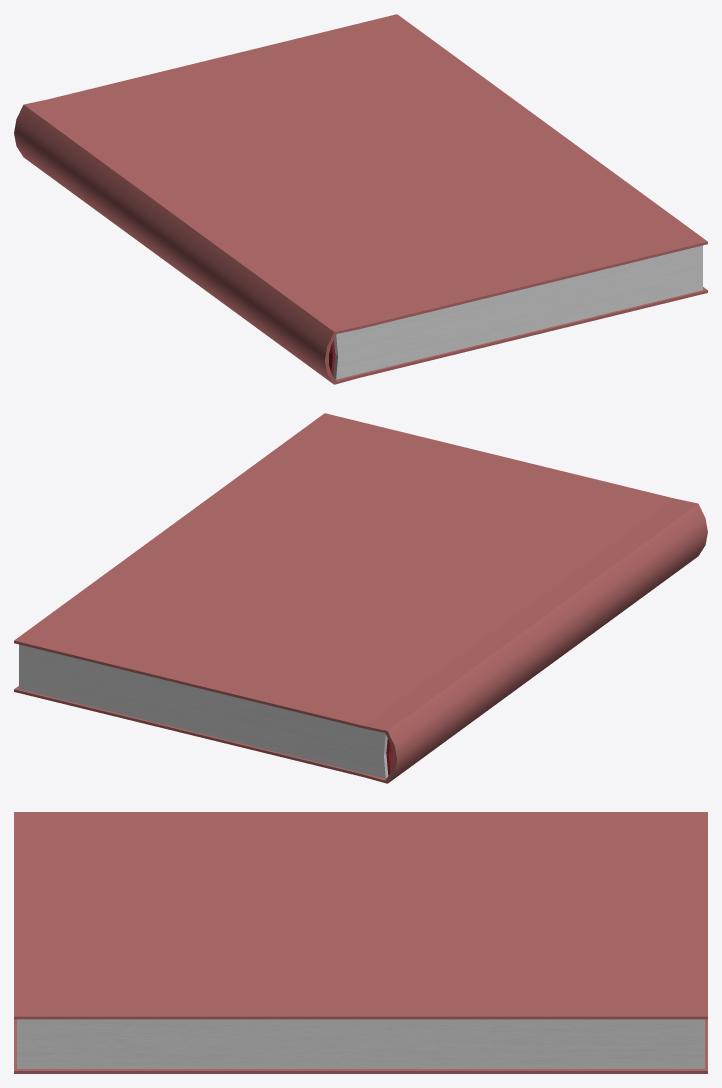
File: Libro Horizontal.glb
The picture shows the model from 3 angles, top to bottom: view 1: azimuth 30°, elevation 25°; view 2: azimuth 150°, elevation 25°; view 3: azimuth 270°, elevation 25°; orthographic projection. The views are drawn at different scales.
Parts seen in each view (by area): view 1: 5accecdf-08b9-4989-a05c-cba87c9a347e, 77ace54e-4909-4a86-8d2c-424ff470dd08; view 2: 5accecdf-08b9-4989-a05c-cba87c9a347e, 77ace54e-4909-4a86-8d2c-424ff470dd08; view 3: 5accecdf-08b9-4989-a05c-cba87c9a347e, 77ace54e-4909-4a86-8d2c-424ff470dd08.
Boxes of the visible parts, <box> form: 5accecdf-08b9-4989-a05c-cba87c9a347e: <box>14,14,707,384</box>; 77ace54e-4909-4a86-8d2c-424ff470dd08: <box>333,245,702,379</box>; 5accecdf-08b9-4989-a05c-cba87c9a347e: <box>14,413,707,783</box>; 77ace54e-4909-4a86-8d2c-424ff470dd08: <box>19,644,388,778</box>; 5accecdf-08b9-4989-a05c-cba87c9a347e: <box>14,812,707,1073</box>; 77ace54e-4909-4a86-8d2c-424ff470dd08: <box>17,1019,704,1068</box>.
Size of the model in its own units: 0.1565 by 0.0206 by 0.2199.
Materials: 3 (2 with a texture image).
